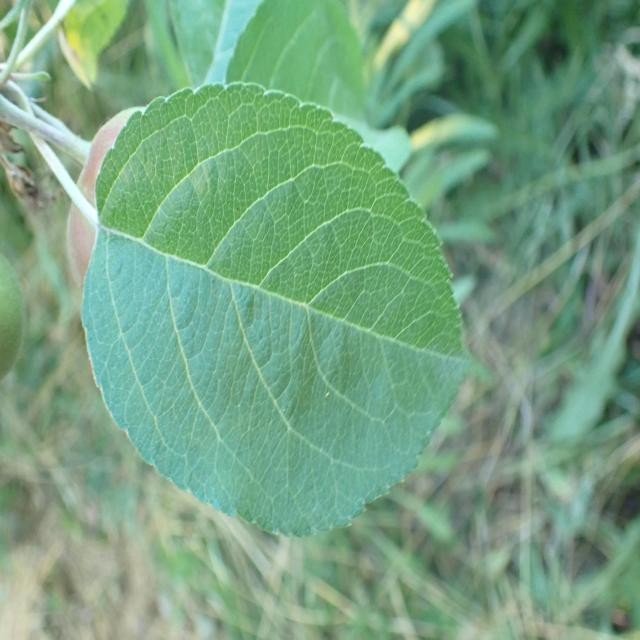healthy: (81, 81, 473, 539), (224, 0, 368, 129)
